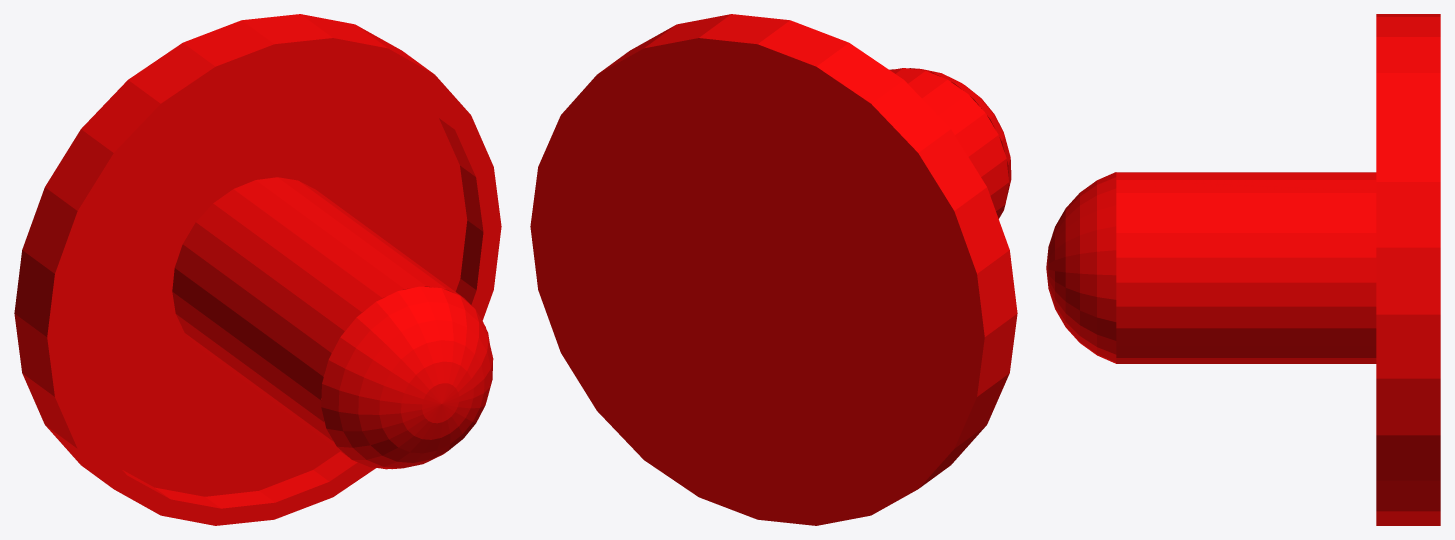
The model's file is paddle.obj.
3 views of the same model, side by side, from view 1: azimuth 30°, elevation 25°; view 2: azimuth 150°, elevation 25°; view 3: azimuth 270°, elevation 25° (orthographic). The views are drawn at different scales.
Parts seen in each view (by area): view 1: MeshBody1; view 2: MeshBody1; view 3: MeshBody1.
Boxes of the visible parts, <box> form: MeshBody1: <box>14,14,501,525</box>; MeshBody1: <box>530,14,1017,525</box>; MeshBody1: <box>1046,14,1440,525</box>.
Size of the model in its own units: 6 by 6 by 4.61.
